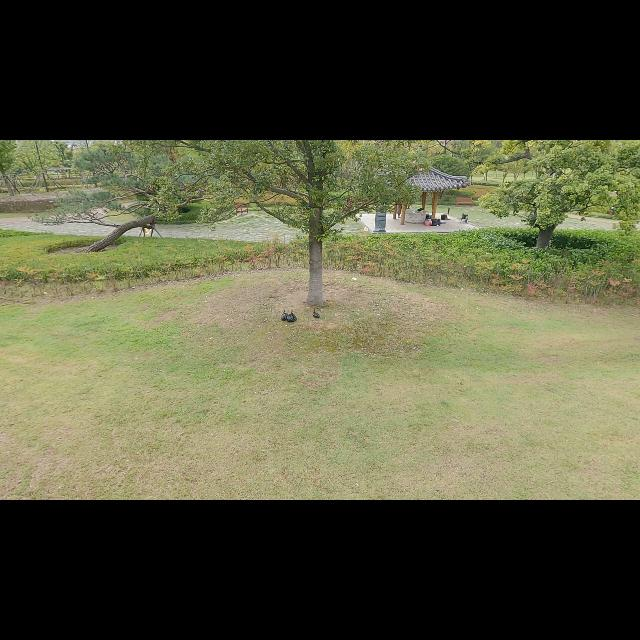trash: (288, 310, 298, 324), (312, 308, 322, 318), (282, 309, 290, 321)
